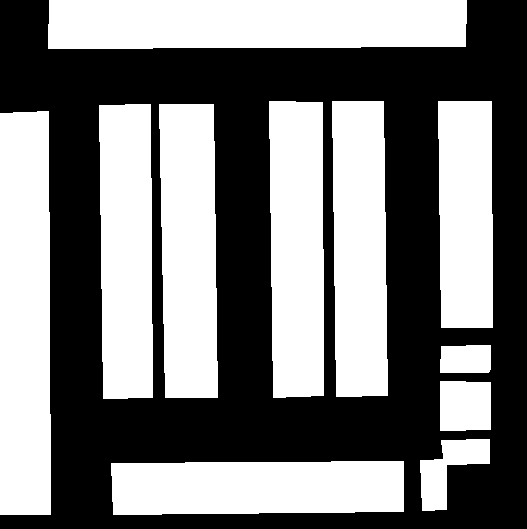parkingspot: (0, 111, 50, 514), (48, 0, 466, 48), (159, 104, 217, 397), (332, 101, 387, 396), (269, 101, 323, 397), (99, 104, 152, 398), (111, 461, 403, 514), (438, 101, 492, 327), (440, 381, 490, 430), (440, 345, 490, 372), (420, 459, 446, 510), (441, 439, 489, 464)
